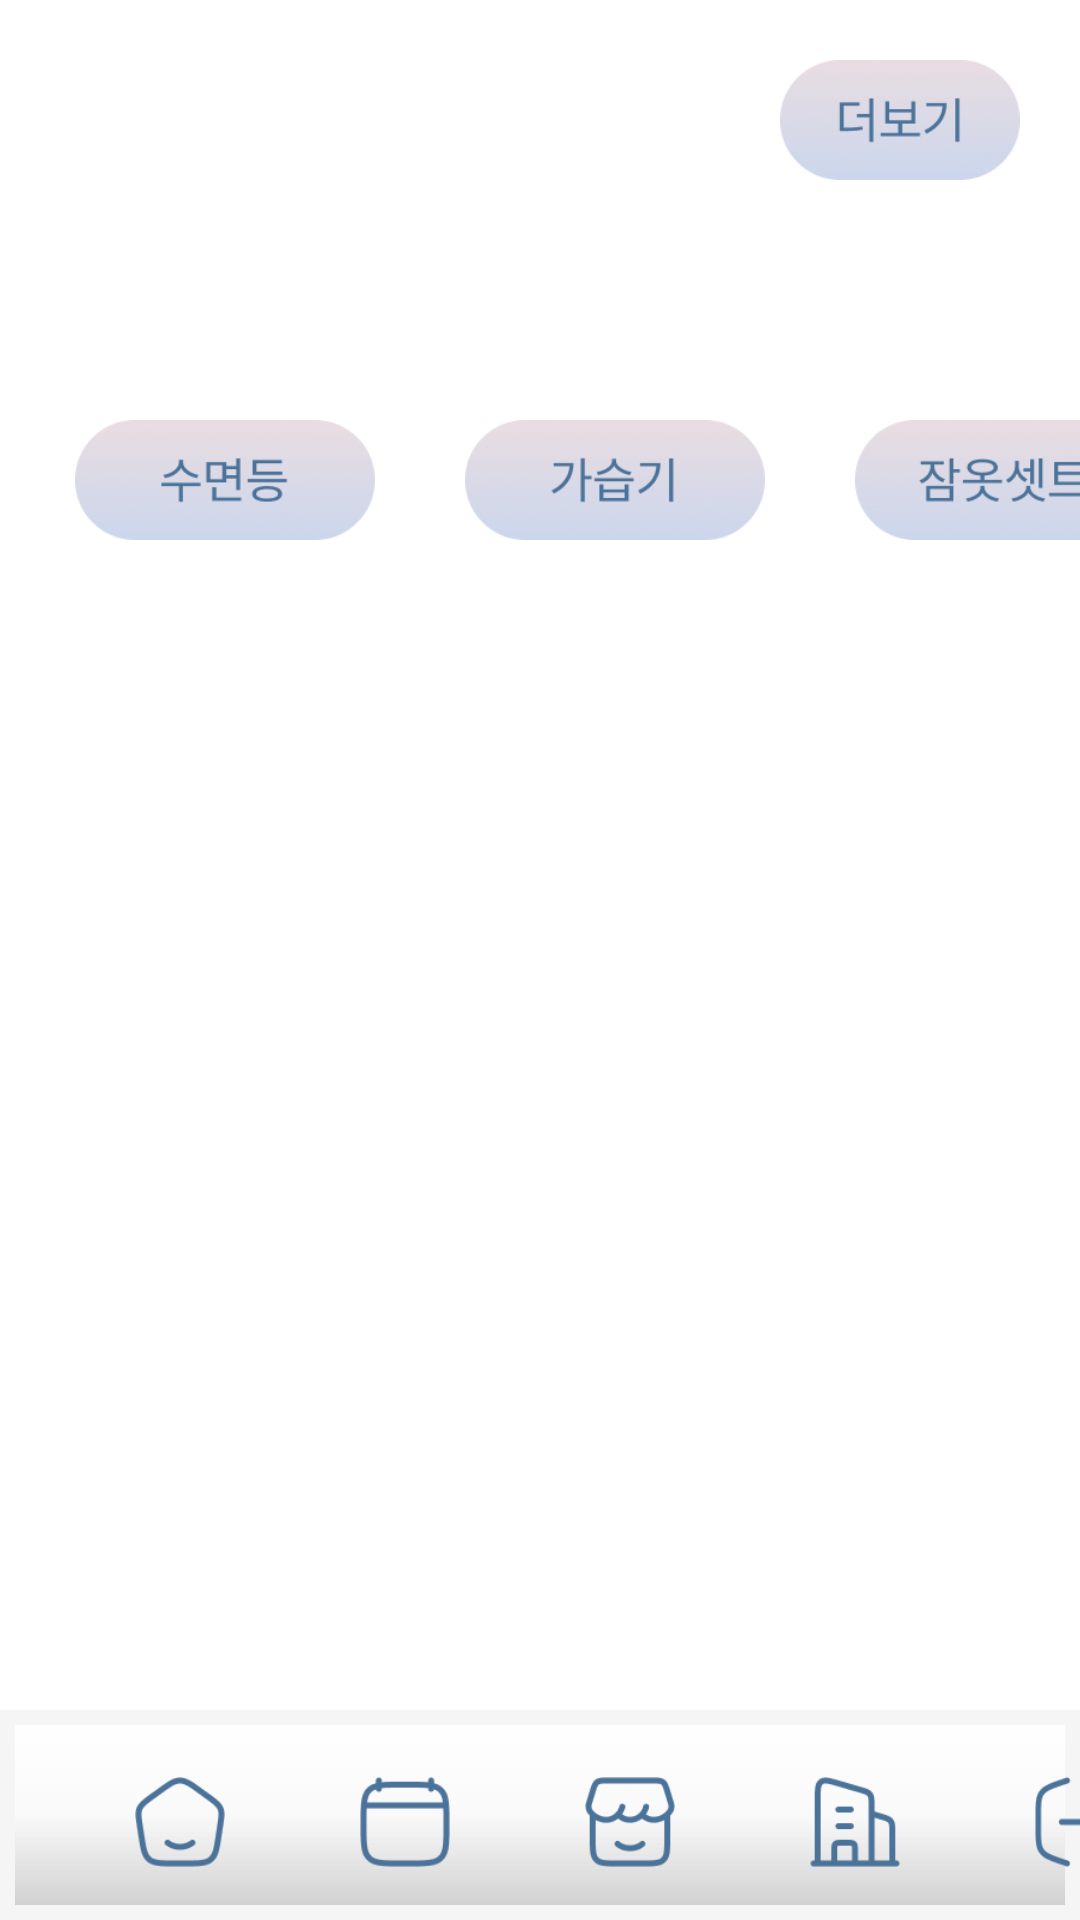

Icons on this 1080 x 1920 Android screen, each with its box as (x1, y1, x2, y2):
building: (810, 1777, 900, 1867)
calendar: (360, 1777, 450, 1867)
home: (135, 1777, 225, 1867)
store: (585, 1777, 675, 1867)
